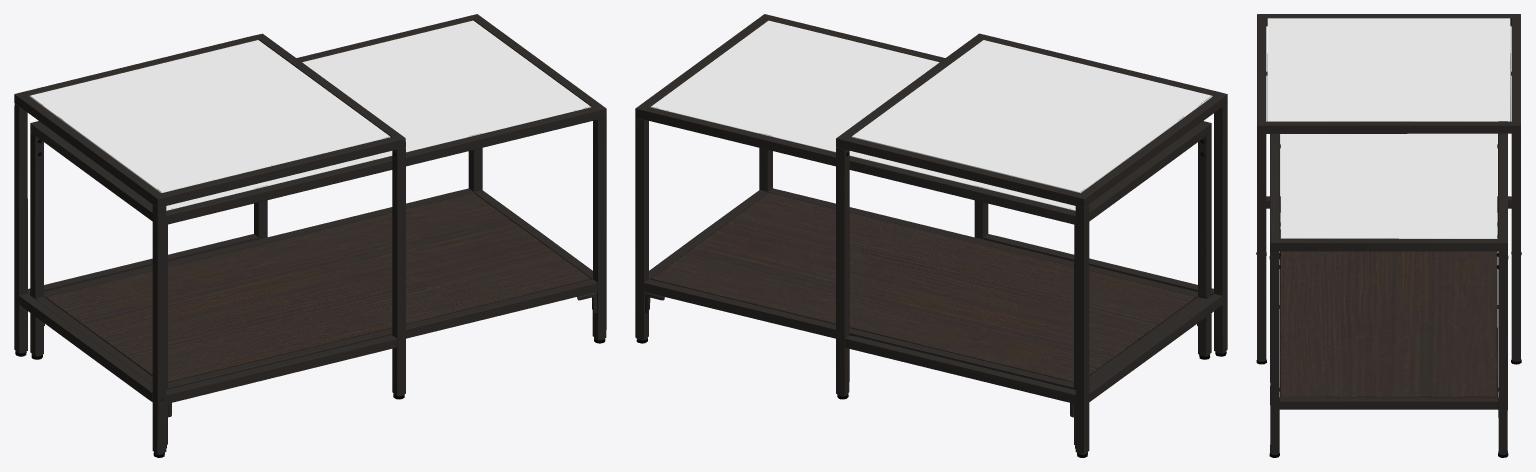
The model's file is vittsjo_stoliki_2_szt_80215332.glb.
3 views of the same model, side by side, from view 1: azimuth 30°, elevation 25°; view 2: azimuth 150°, elevation 25°; view 3: azimuth 270°, elevation 25° (orthographic). The views are drawn at different scales.
Visible parts, largest first — view 1: vittsjo_stoliki_2_szt_80215332; view 2: vittsjo_stoliki_2_szt_80215332; view 3: vittsjo_stoliki_2_szt_80215332.
Boxes of the visible parts, x1,y1,x2,y2 form: vittsjo_stoliki_2_szt_80215332: (14, 14, 606, 457); vittsjo_stoliki_2_szt_80215332: (635, 14, 1227, 457); vittsjo_stoliki_2_szt_80215332: (1256, 14, 1521, 457).
Size of the model in its own units: 0.9199 by 0.5 by 0.5019.
2 materials, 2 textured.
